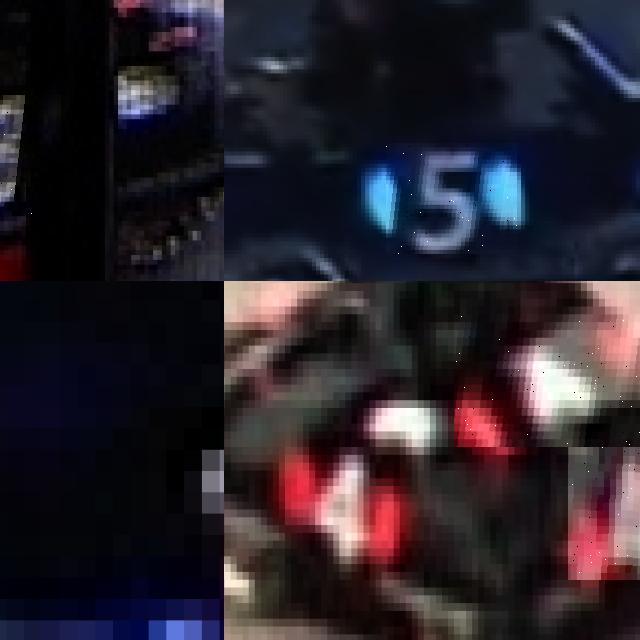B5: (386, 143, 517, 254)
R3: (0, 90, 39, 216)
R4: (454, 314, 640, 446), (267, 424, 406, 564), (568, 447, 640, 579)
